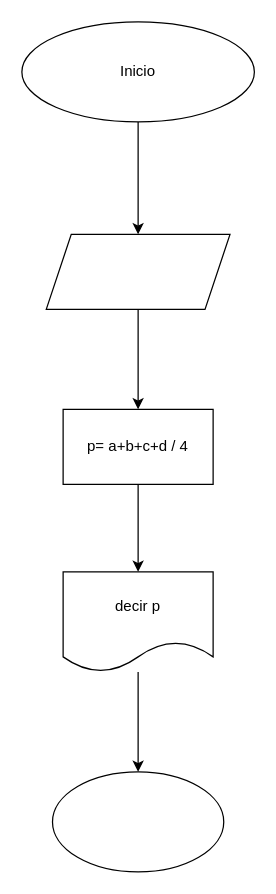
Some shapes in this 276 by 894 pixel diagram are drawn without their labels. The centre of each missing label's shape, as x and y in pixels:
"fin" goes at (x=137, y=821).
"leer a,b,c,d" goes at (x=137, y=271).
